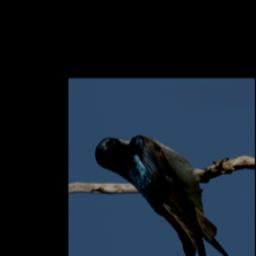Swallow: (94, 131, 243, 256)
